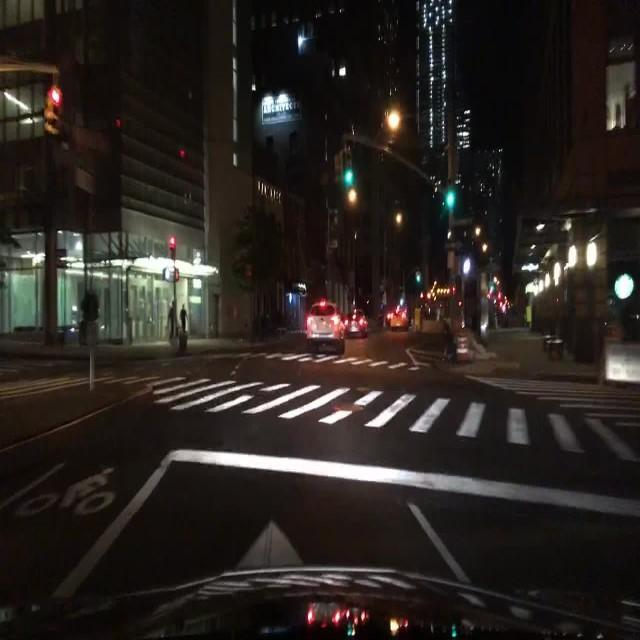normal: (308, 298, 350, 353)
